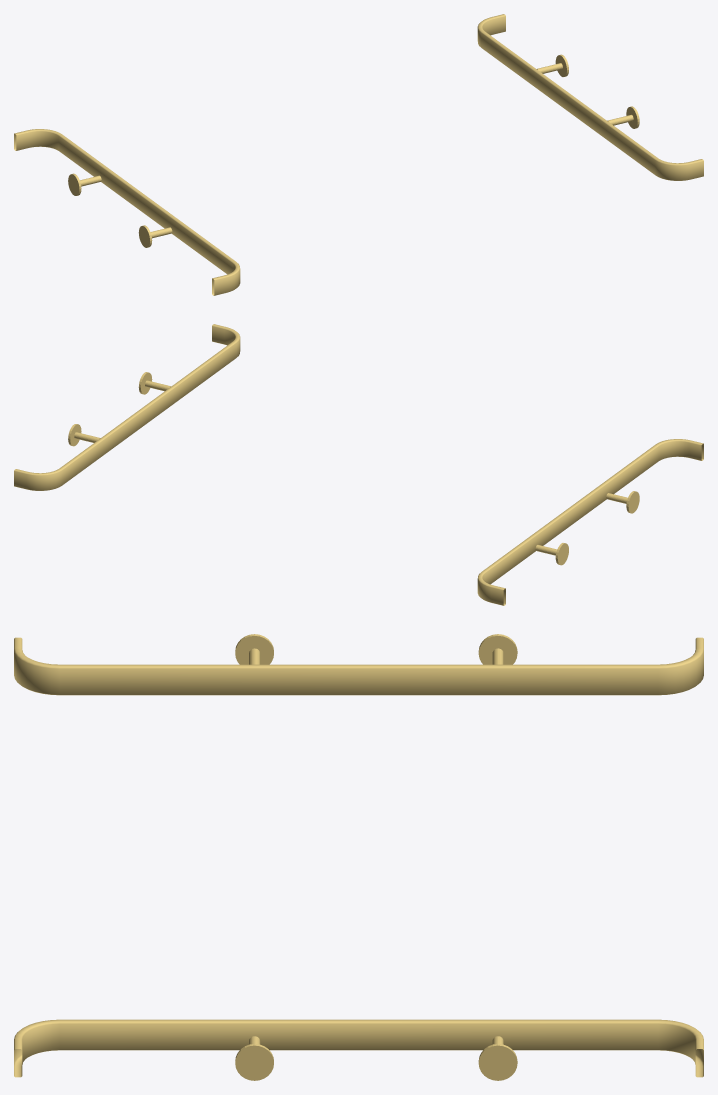
Rendered from handrail_FS010.glb.
3 views of the same model, one above another, from view 1: azimuth 30°, elevation 25°; view 2: azimuth 150°, elevation 25°; view 3: azimuth 270°, elevation 25° (orthographic). The views are drawn at different scales.
Visible parts, largest first — view 1: Handrail_R, Handrail_L; view 2: Handrail_R, Handrail_L; view 3: Handrail_L, Handrail_R, Handrail_R_Rosette_1, Handrail_R_Rosette_2, Handrail_L_Rosette_2, Handrail_L_Rosette_1.
Boxes of the visible parts, x1=… form: Handrail_R: x1=477, y1=14, x2=703, y2=180; Handrail_L: x1=14, y1=129, x2=240, y2=295; Handrail_R: x1=14, y1=324, x2=240, y2=490; Handrail_L: x1=477, y1=439, x2=703, y2=605; Handrail_L: x1=14, y1=637, x2=703, y2=695; Handrail_R: x1=14, y1=1019, x2=703, y2=1077; Handrail_R_Rosette_1: x1=235, y1=1044, x2=273, y2=1080; Handrail_R_Rosette_2: x1=478, y1=1044, x2=517, y2=1080; Handrail_L_Rosette_2: x1=478, y1=634, x2=517, y2=664; Handrail_L_Rosette_1: x1=235, y1=634, x2=273, y2=664.
Size of the model in its own units: 1.4 by 0.056 by 0.992.
